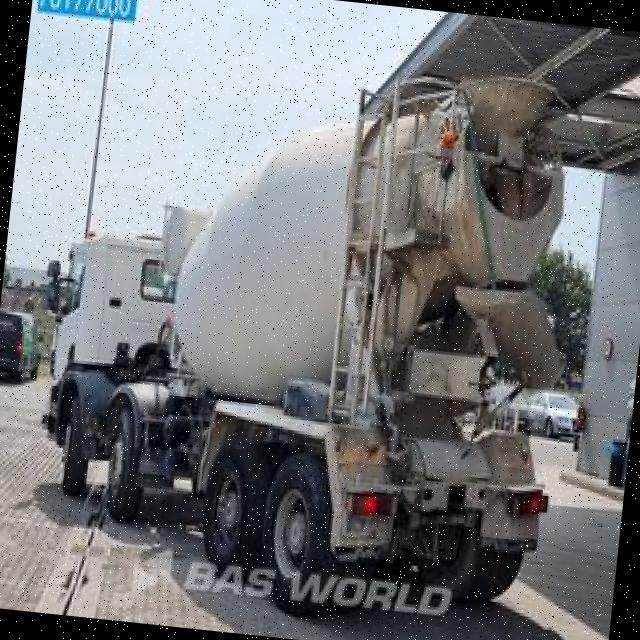Mixer Truck: (10, 28, 596, 640)
